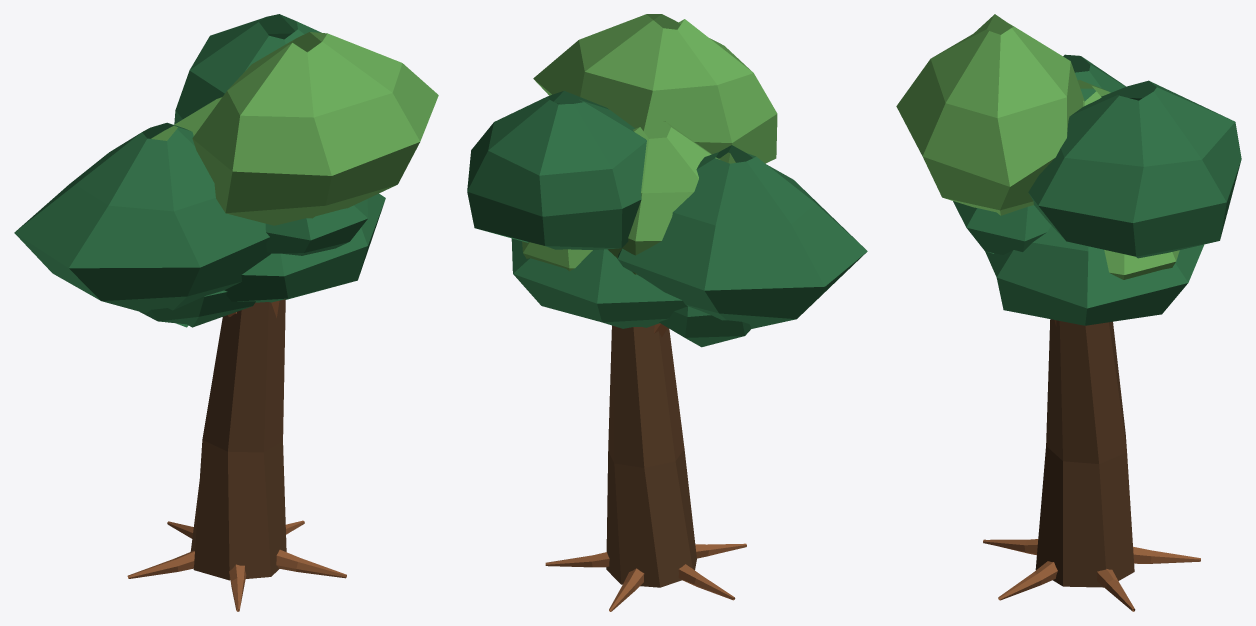
File: tree_b.glb
The picture shows the model from 3 angles, left to right: view 1: azimuth 30°, elevation 25°; view 2: azimuth 150°, elevation 25°; view 3: azimuth 270°, elevation 25°; orthographic projection. The views are drawn at different scales.
Visible parts, largest first — view 1: TREE_B; view 2: TREE_B; view 3: TREE_B.
Part boxes in pixels (bbox=[...]): TREE_B: bbox=[14, 14, 438, 611]; TREE_B: bbox=[467, 14, 867, 611]; TREE_B: bbox=[896, 14, 1241, 611].
Size of the model in its own units: 4.13 by 5.84 by 3.26.
